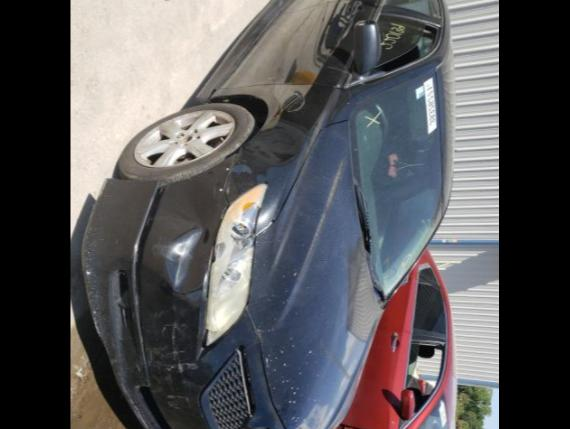Broken part: (204, 184, 268, 344), (130, 182, 168, 368)
Dent: (164, 223, 216, 296), (246, 128, 295, 164), (226, 158, 258, 202)
Scratch: (146, 348, 176, 394), (152, 302, 176, 324), (166, 360, 198, 374), (164, 390, 188, 404), (160, 322, 180, 338), (156, 344, 186, 354), (162, 396, 180, 412), (128, 360, 140, 372)
